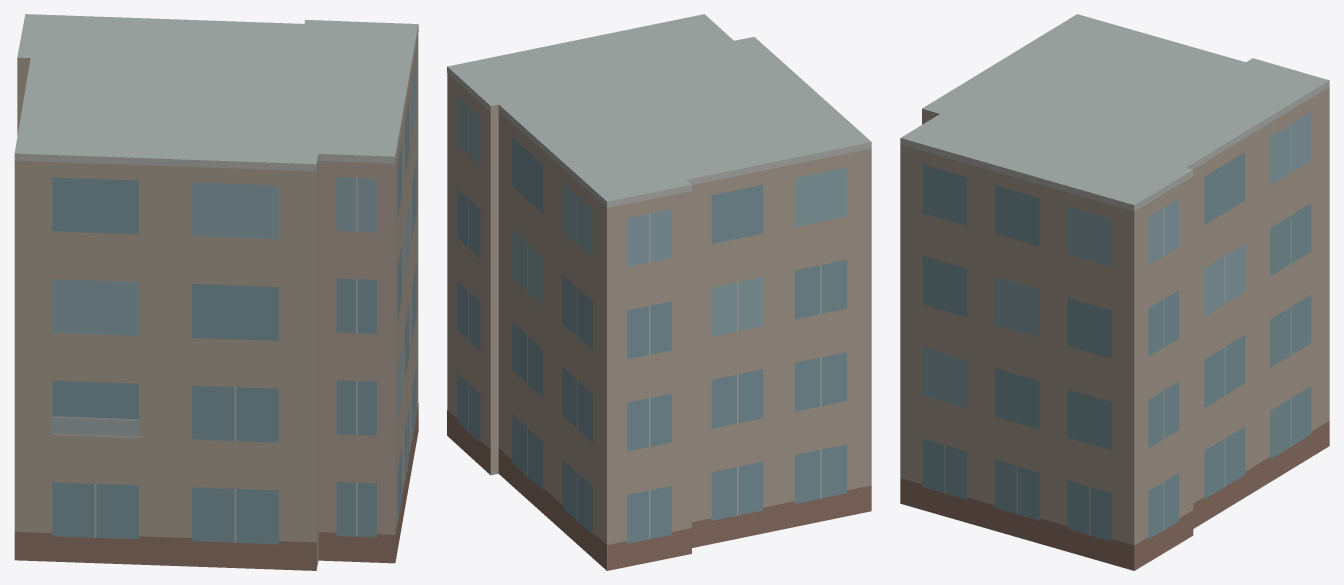
The model's file is survey-upis-32745612.glb.
3 renders of one model, left to right at view 1: azimuth 30°, elevation 25°; view 2: azimuth 150°, elevation 25°; view 3: azimuth 270°, elevation 25°, orthographic. The views are drawn at different scales.
Parts seen in each view (by area): view 1: survey-upis-32745612.tmp; view 2: survey-upis-32745612.tmp; view 3: survey-upis-32745612.tmp.
Part boxes in pixels (<box>): survey-upis-32745612.tmp: <box>14,14,418,570</box>; survey-upis-32745612.tmp: <box>447,14,871,570</box>; survey-upis-32745612.tmp: <box>900,14,1329,570</box>.
Size of the model in its own units: 15.76 by 14.05 by 14.95.
